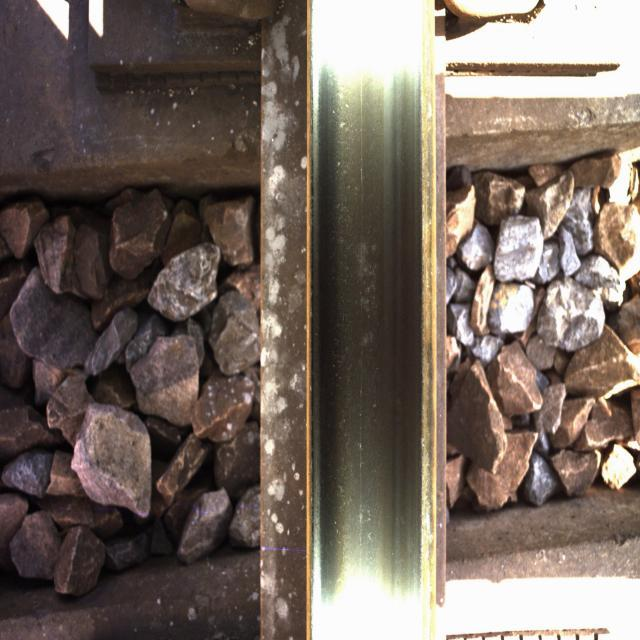normal: (320, 63, 419, 555)
